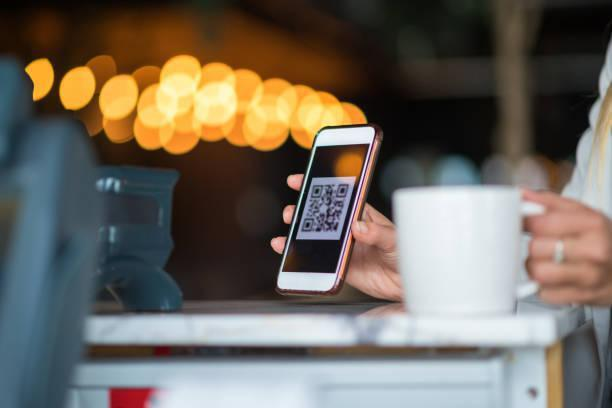qr_code: (301, 185, 349, 233)
